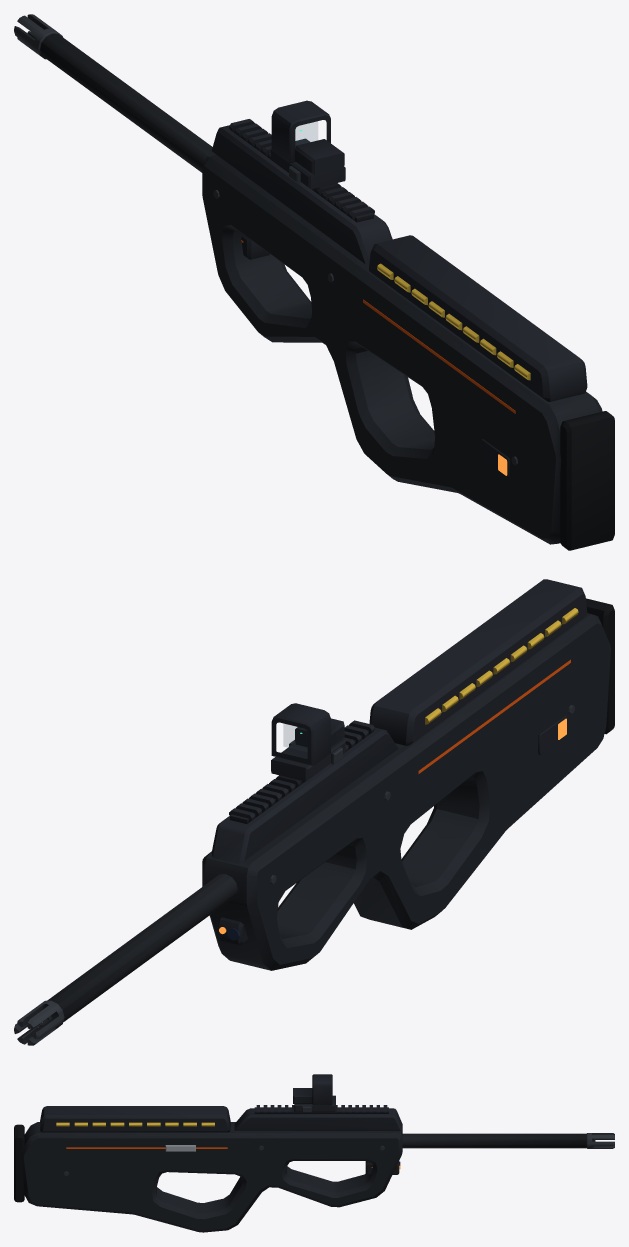
3 renders of one model, top to bottom at view 1: azimuth 30°, elevation 25°; view 2: azimuth 150°, elevation 25°; view 3: azimuth 270°, elevation 25°, orthographic. The views are drawn at different scales.
Parts seen in each view (by area): view 1: body_furn, body_frame2, mag_frame2, body_rubber, body_steel, mag_brass; view 2: body_furn, body_frame2, mag_frame2, body_steel, mag_brass, body_rubber, body_accent; view 3: body_furn, body_frame2, mag_frame2, body_steel, body_rubber, mag_brass, body_accent.
Part boxes in pixels (<box>): body_furn: <box>202,154,602,544</box>; body_frame2: <box>211,100,509,478</box>; mag_frame2: <box>369,235,587,401</box>; body_rubber: <box>560,411,614,550</box>; body_steel: <box>14,14,517,465</box>; mag_brass: <box>377,263,530,380</box>; body_furn: <box>202,613,610,970</box>; body_frame2: <box>211,703,567,944</box>; mag_frame2: <box>369,579,587,745</box>; body_steel: <box>14,705,574,1045</box>; mag_brass: <box>425,608,578,724</box>; body_rubber: <box>586,598,614,734</box>; body_accent: <box>418,659,570,773</box>; body_furn: <box>21,1122,402,1232</box>; body_frame2: <box>234,1074,402,1174</box>; mag_frame2: <box>40,1106,230,1132</box>; body_steel: <box>64,1106,614,1175</box>; body_rubber: <box>14,1124,24,1202</box>; mag_brass: <box>56,1122,214,1126</box>; body_accent: <box>66,1147,372,1167</box>.
Size of the model in its own units: 0.0557 by 0.2444 by 0.894.
